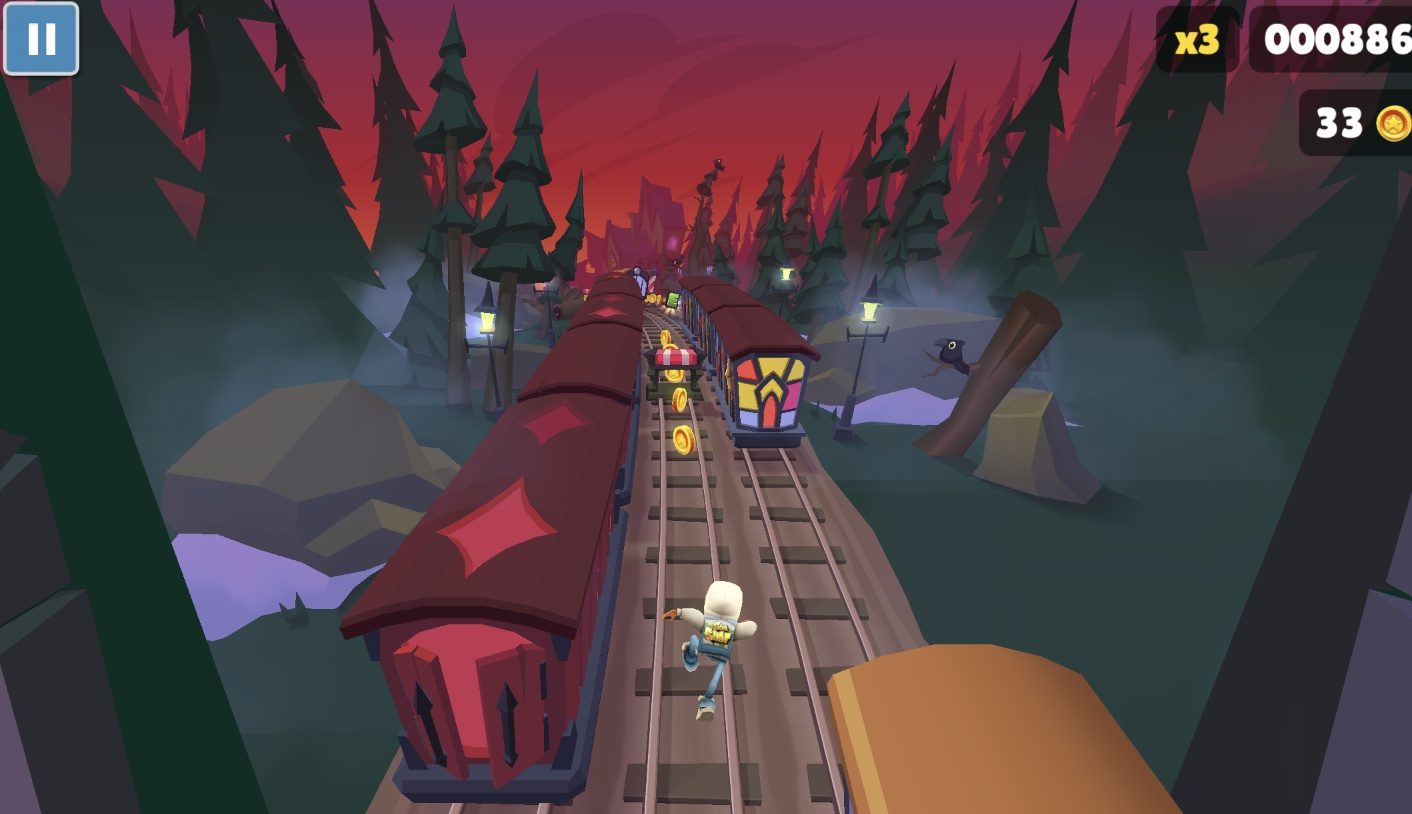ground_barrier: (644, 346, 702, 401)
overhead_barrier: (647, 269, 659, 294)
train: (309, 272, 641, 776), (814, 662, 1177, 814), (673, 274, 818, 448), (628, 265, 656, 300)
